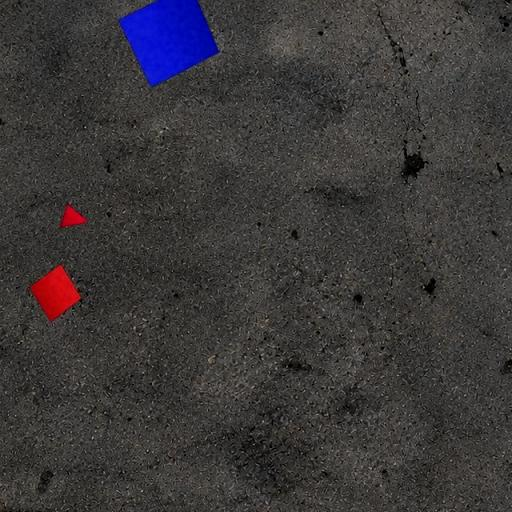BLUE_SQUARE: (118, 0, 220, 88)
RED_SQUARE: (28, 263, 82, 323)
